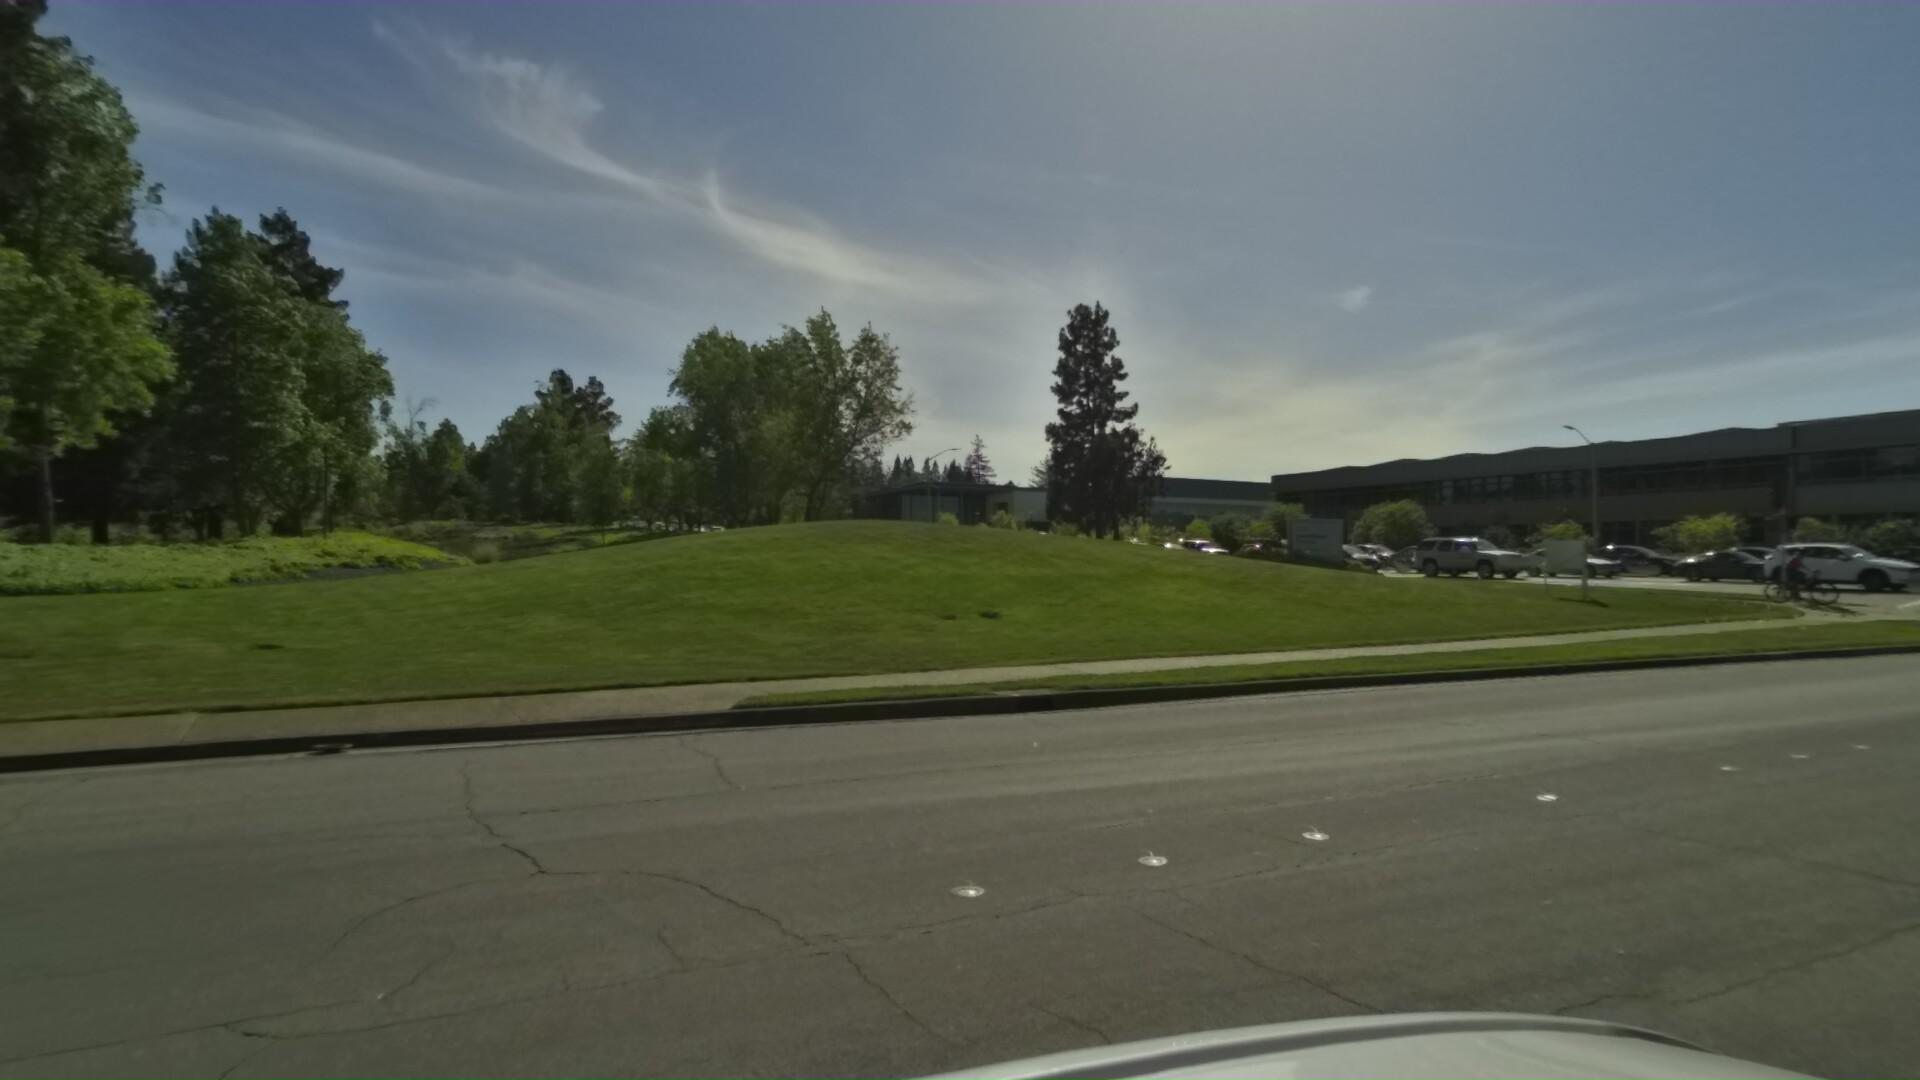bicycle: (1749, 537, 1832, 603)
car: (1750, 531, 1920, 589), (1402, 527, 1534, 579), (1658, 541, 1808, 584), (1511, 539, 1629, 579), (1573, 538, 1698, 572), (1845, 531, 1920, 583), (1385, 537, 1480, 572), (1299, 537, 1387, 572), (1866, 535, 1920, 580), (1162, 534, 1230, 563)
